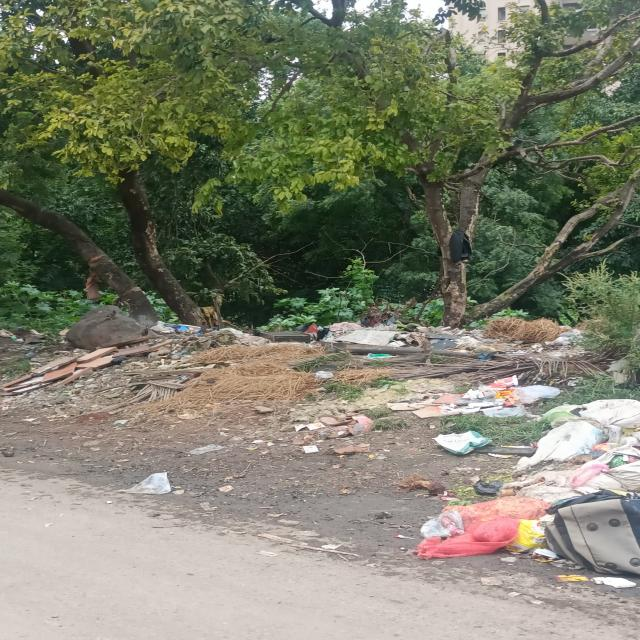garbage: (54, 294, 596, 415), (437, 386, 640, 582)
